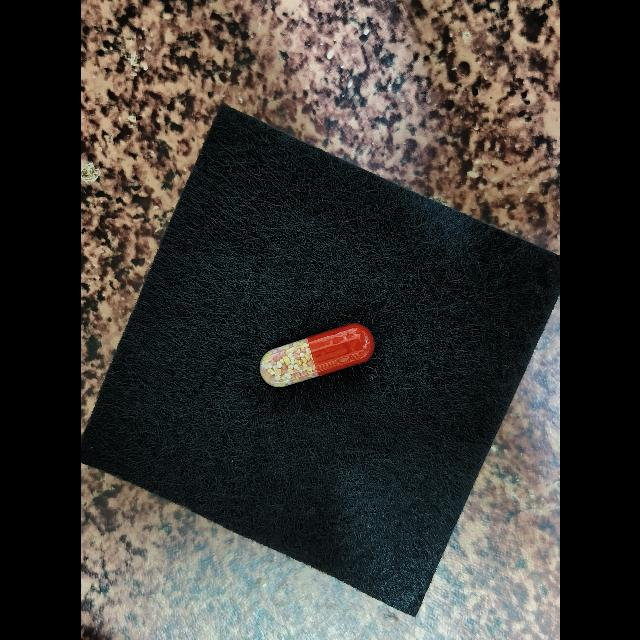Intact Capsule: (259, 323, 374, 387)
